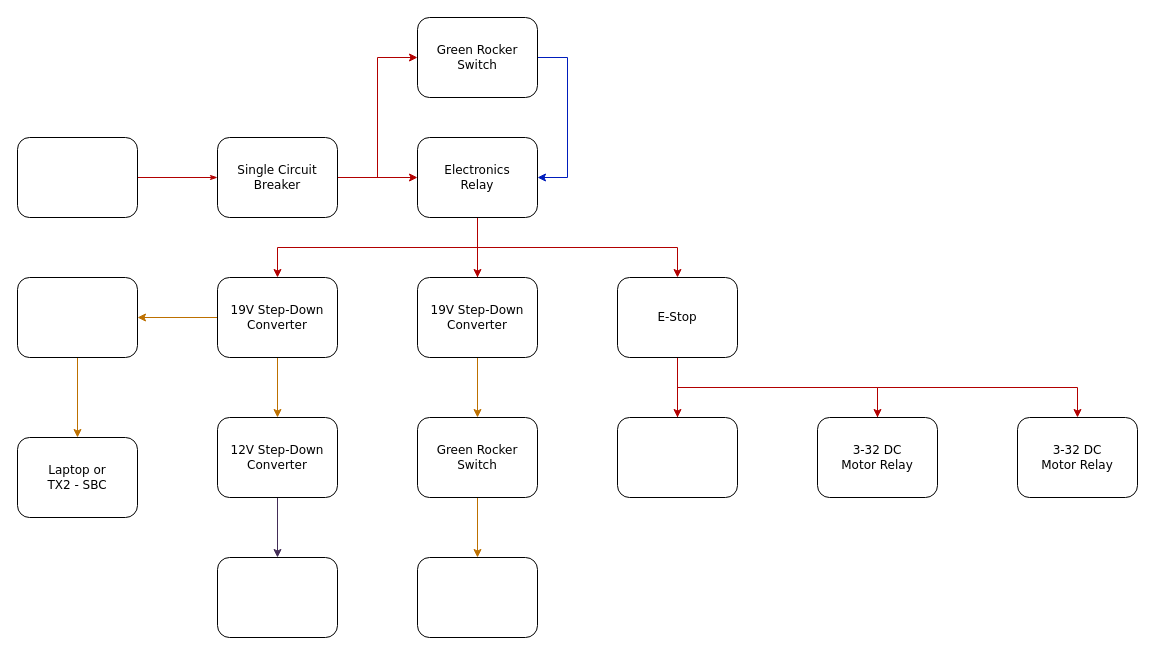
Some shapes in this 1155 by 655 pixel diagram are drawn without their labels. Here are the shapes that lost their labels. From the top down, the box of each, then its label:
(16, 136, 138, 218): 24V Battery 7.0Ah
(16, 276, 138, 358): Red Rocker Switch
(616, 416, 738, 498): Green LED
(216, 556, 338, 638): Wifi Router
(416, 556, 538, 638): Lidar
